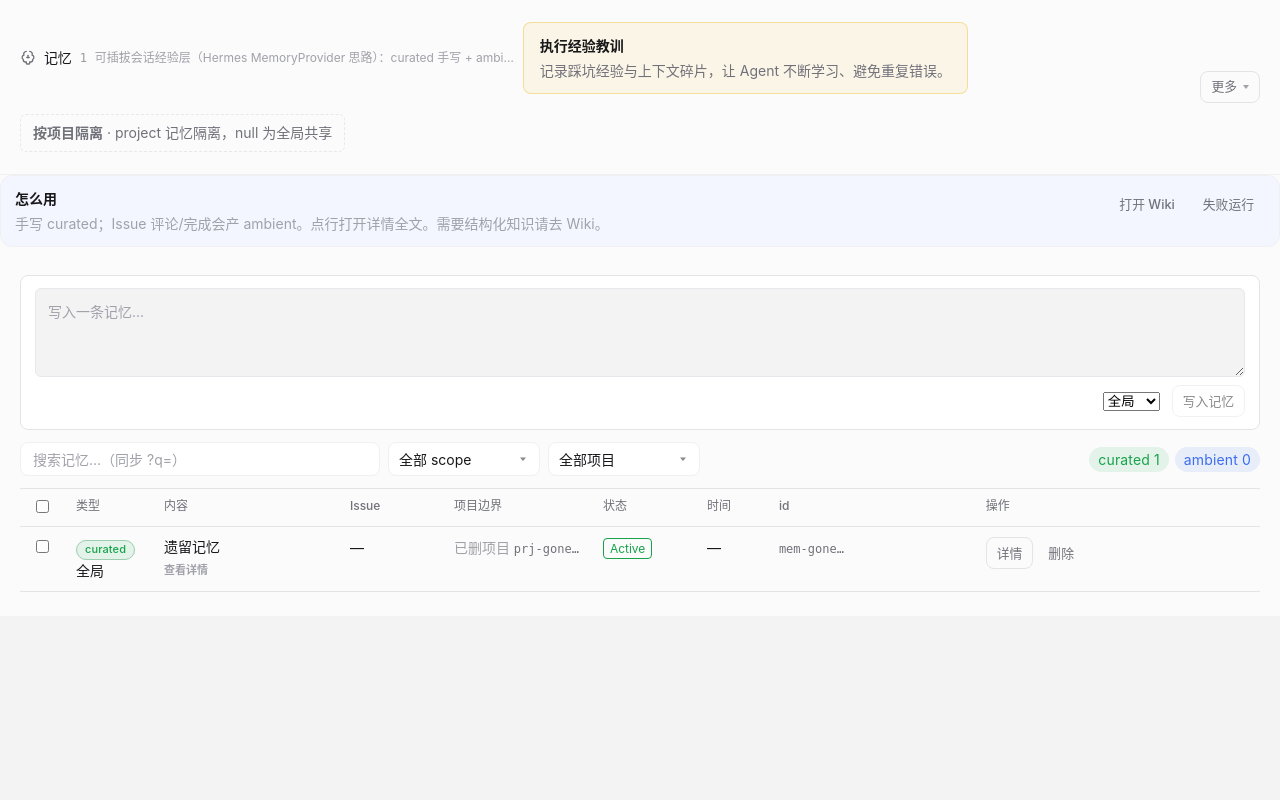
it: MemoryPage 项目上下文 › 项目已删 → 表格行与详情均显示不可点击「已删项目」fallback
Expected: the element with test id "memory-project-deleted" shows "已删项目", [454, 539, 514, 556]
# 详情抽屉：点「详情」打开，同样 fallback
Click the button with test id "memory-open-detail". click: coordinates (1010, 553)
box: [986, 537, 1033, 569]
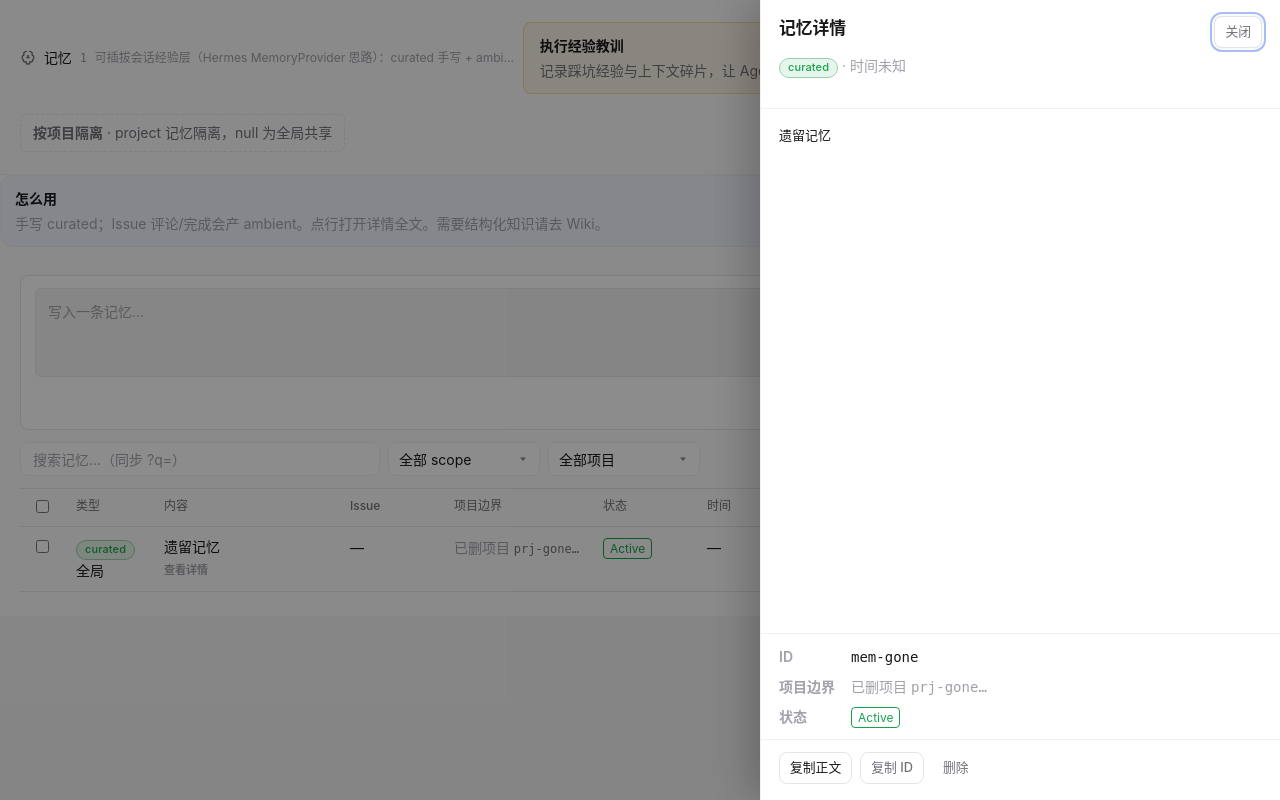
Expected: the element with test id "memory-project-deleted" shows "已删项目", [851, 678, 911, 695]
